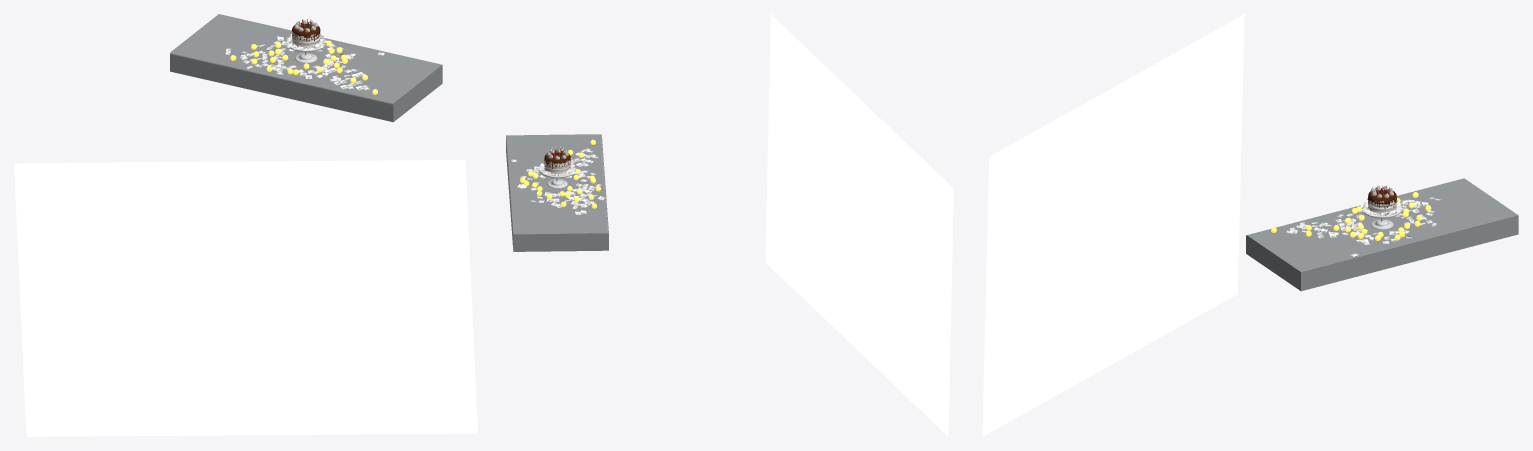
File: cake2.gltf
The picture shows the model from 3 angles, left to right: view 1: azimuth 30°, elevation 25°; view 2: azimuth 150°, elevation 25°; view 3: azimuth 270°, elevation 25°; orthographic projection. The views are drawn at different scales.
Parts seen in each view (by area): view 1: bar-2689548_1920, Plane; view 2: bar-2689548_1920, Plane; view 3: bar-2689548_1920, Plane.
Boxes of the visible parts, left/top/right/bottom form: bar-2689548_1920: left=14, top=160, right=477, bottom=436; Plane: left=170, top=14, right=442, bottom=122; bar-2689548_1920: left=765, top=14, right=953, bottom=436; Plane: left=506, top=134, right=608, bottom=251; bar-2689548_1920: left=982, top=14, right=1244, bottom=436; Plane: left=1246, top=178, right=1518, bottom=291.
Size of the model in its own units: 81.46 by 49.52 by 82.19.
